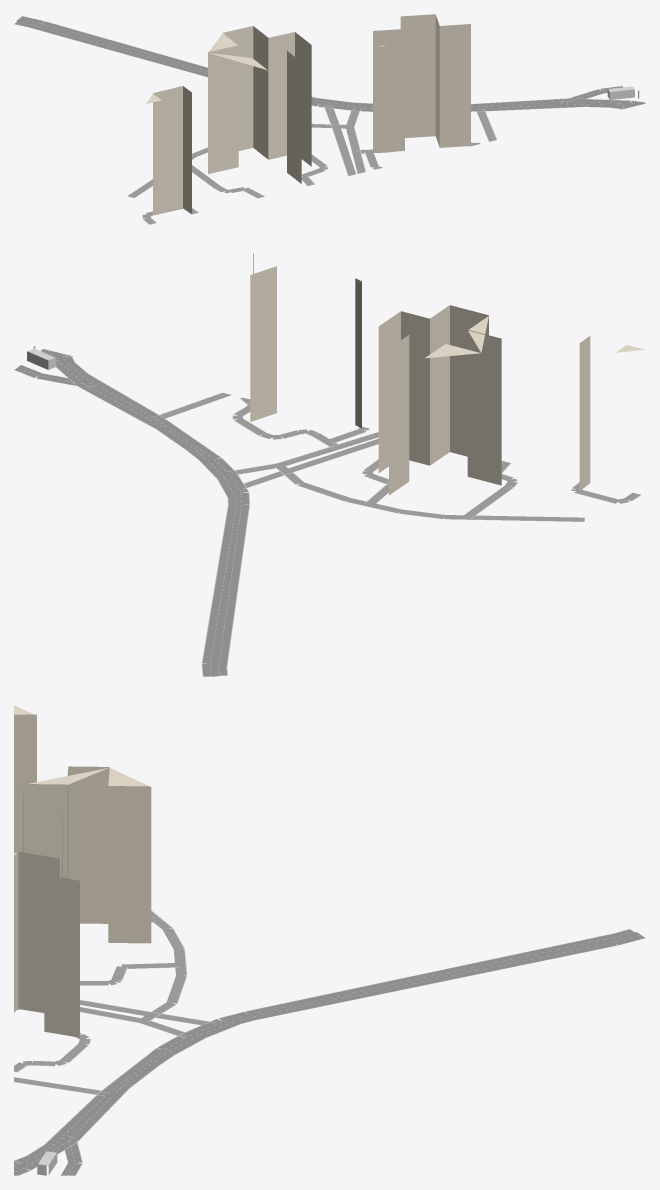
File: chunk_-3_-4.glb
The picture shows the model from 3 angles, top to bottom: view 1: azimuth 30°, elevation 25°; view 2: azimuth 150°, elevation 25°; view 3: azimuth 270°, elevation 25°; orthographic projection. The views are drawn at different scales.
Visible parts, largest first — view 1: buildings_091_0835_069, roads_0333_0333_0333, roads_04_04_04, roads_kerbs_markings, buildings_0816_0808_0788; view 2: buildings_091_0835_069, roads_0333_0333_0333, roads_04_04_04, roads_kerbs_markings; view 3: buildings_091_0835_069, roads_0333_0333_0333, roads_04_04_04, roads_kerbs_markings.
Boxes of the visible parts, <box> form: buildings_091_0835_069: <box>146,14,470,214</box>; roads_0333_0333_0333: <box>15,16,645,111</box>; roads_04_04_04: <box>128,103,644,224</box>; roads_kerbs_markings: <box>14,16,643,224</box>; buildings_0816_0808_0788: <box>607,86,639,99</box>; buildings_091_0835_069: <box>250,253,644,495</box>; roads_0333_0333_0333: <box>14,349,249,676</box>; roads_04_04_04: <box>44,349,640,521</box>; roads_kerbs_markings: <box>14,350,641,676</box>; buildings_091_0835_069: <box>14,705,151,1037</box>; roads_0333_0333_0333: <box>14,929,644,1175</box>; roads_04_04_04: <box>14,911,215,1174</box>; roads_kerbs_markings: <box>14,910,645,1175</box>.
Bounding box in the file's own units: 422 × 98.45 × 359.
